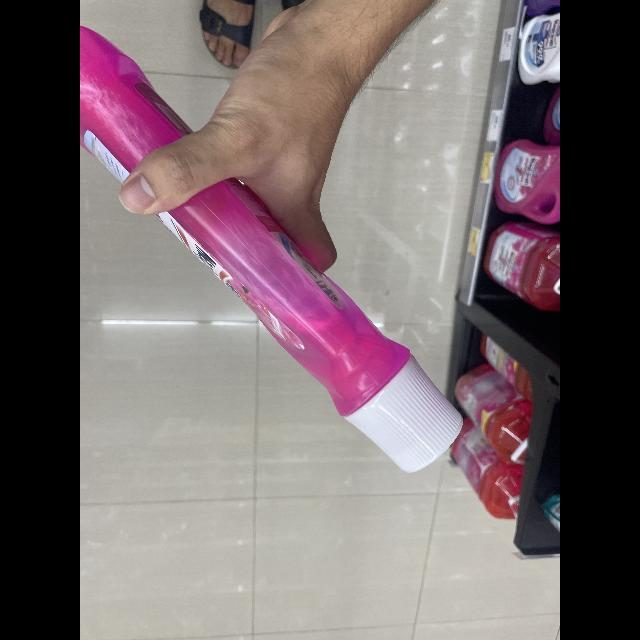chemical_plastic_gallon: (80, 25, 466, 488)
